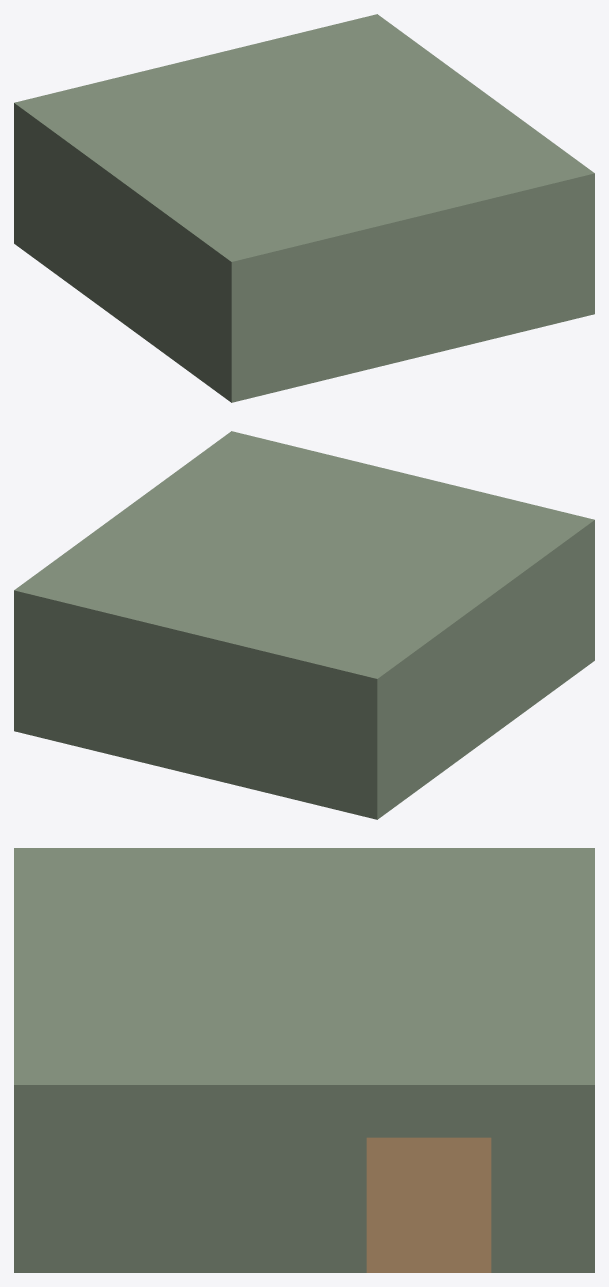
File: rousseau-room.glb
3 renders of one model, top to bottom at view 1: azimuth 30°, elevation 25°; view 2: azimuth 150°, elevation 25°; view 3: azimuth 270°, elevation 25°, orthographic. The views are drawn at different scales.
Parts seen in each view (by area): view 1: rousseau-room; view 2: rousseau-room; view 3: rousseau-room.
Part boxes in pixels (box(x1,y1,x2,y2)): rousseau-room: box(14, 14, 594, 402); rousseau-room: box(14, 431, 594, 819); rousseau-room: box(14, 848, 594, 1272).
Bounding box in the file's own units: 13.5 × 5 × 14.
